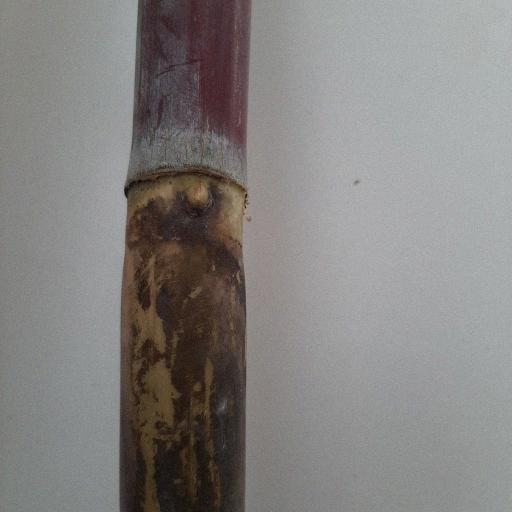Bud: (184, 177, 212, 212)
